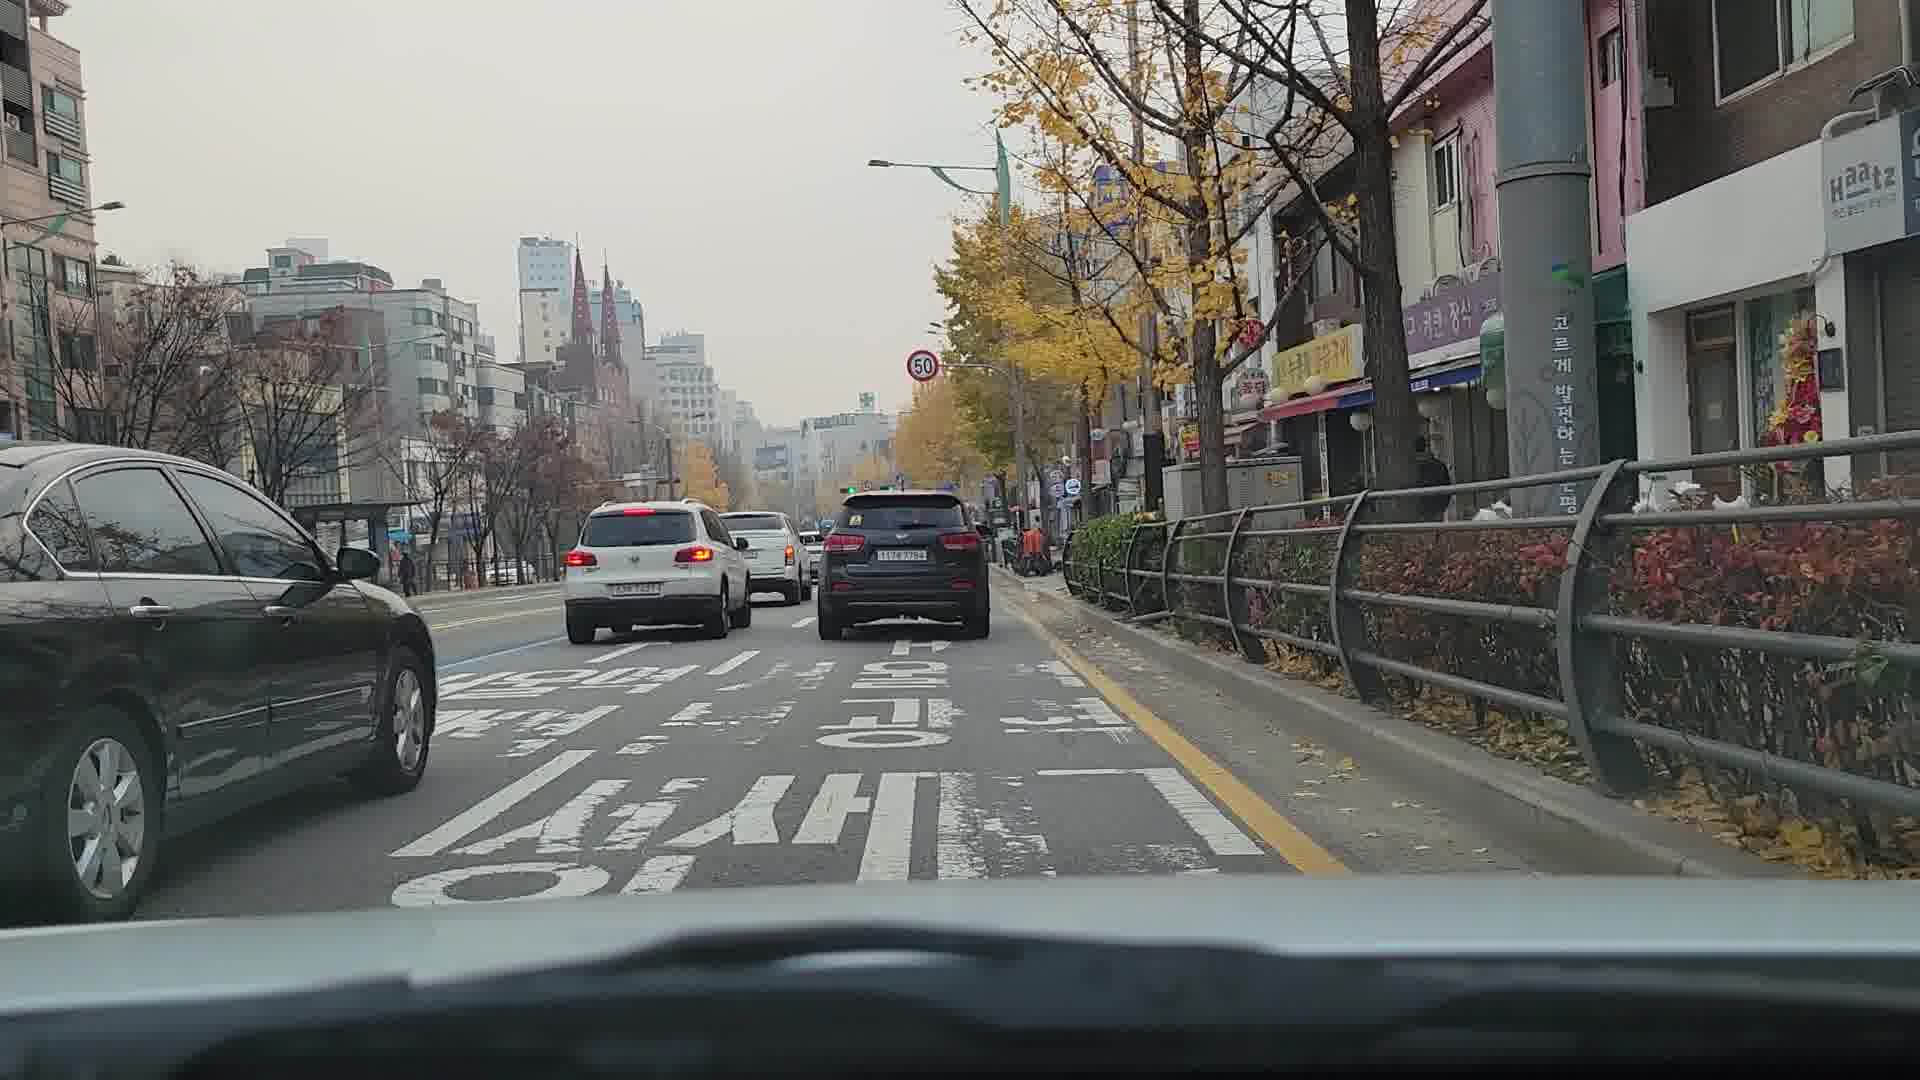car: (0, 436, 447, 930), (560, 498, 760, 642), (720, 512, 814, 604)
truck: (812, 488, 992, 641)
